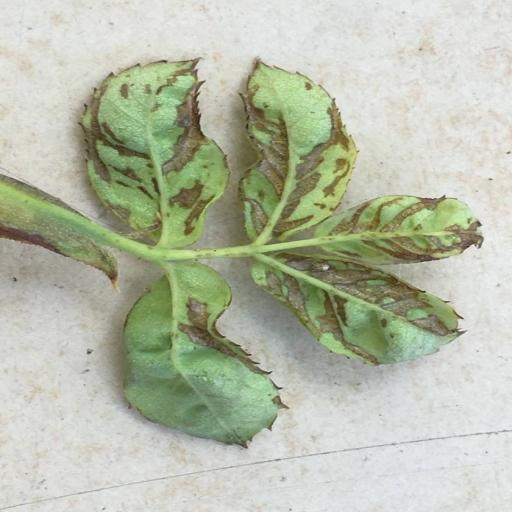thrip: (124, 262, 284, 447), (82, 59, 227, 248), (252, 251, 459, 363), (241, 61, 356, 242), (315, 196, 483, 265)
